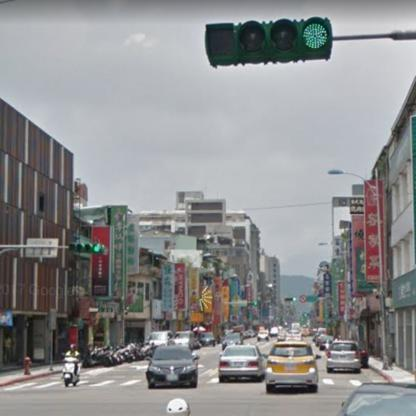Green Light: (204, 16, 335, 62), (69, 239, 104, 253), (282, 296, 298, 302), (246, 300, 258, 306)
